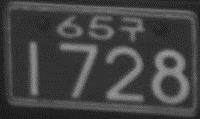1: (18, 40, 53, 97)
2: (104, 43, 145, 103)
5: (87, 13, 115, 40)
6: (56, 14, 83, 39)
7: (58, 40, 98, 99)
8: (150, 47, 191, 105)
구: (118, 15, 145, 41)
